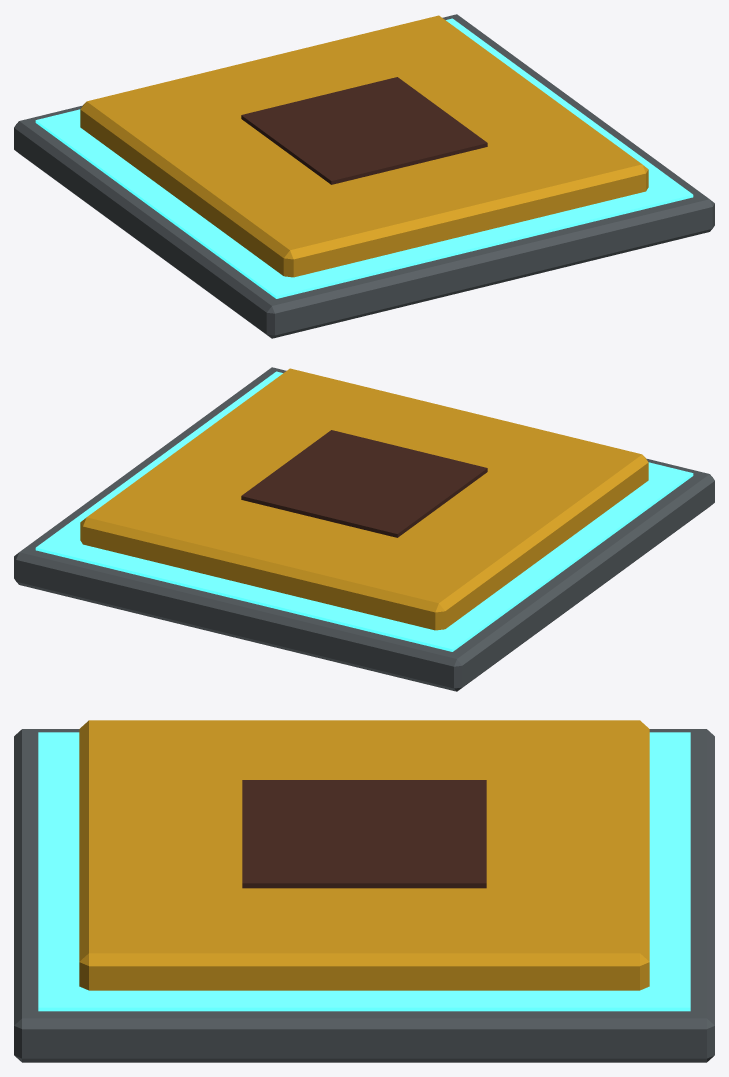
File: plate.glb
The picture shows the model from 3 angles, top to bottom: view 1: azimuth 30°, elevation 25°; view 2: azimuth 150°, elevation 25°; view 3: azimuth 270°, elevation 25°; orthographic projection. The views are drawn at different scales.
Parts seen in each view (by area): view 1: plate_pad, plate_base, plate_ring_emit, plate_mark; view 2: plate_pad, plate_base, plate_ring_emit, plate_mark; view 3: plate_pad, plate_base, plate_ring_emit, plate_mark.
Part boxes in pixels (x1,y1,x2,y2): plate_pad: [80, 15, 648, 277]; plate_base: [14, 14, 714, 338]; plate_ring_emit: [35, 18, 693, 298]; plate_mark: [241, 77, 487, 184]; plate_pad: [80, 368, 648, 630]; plate_base: [14, 367, 714, 691]; plate_ring_emit: [35, 371, 693, 651]; plate_mark: [241, 430, 487, 537]; plate_pad: [79, 720, 649, 990]; plate_base: [14, 729, 714, 1062]; plate_ring_emit: [38, 732, 690, 1011]; plate_mark: [242, 780, 486, 888].
Size of the model in its own units: 0.86 by 0.117 by 0.86.
